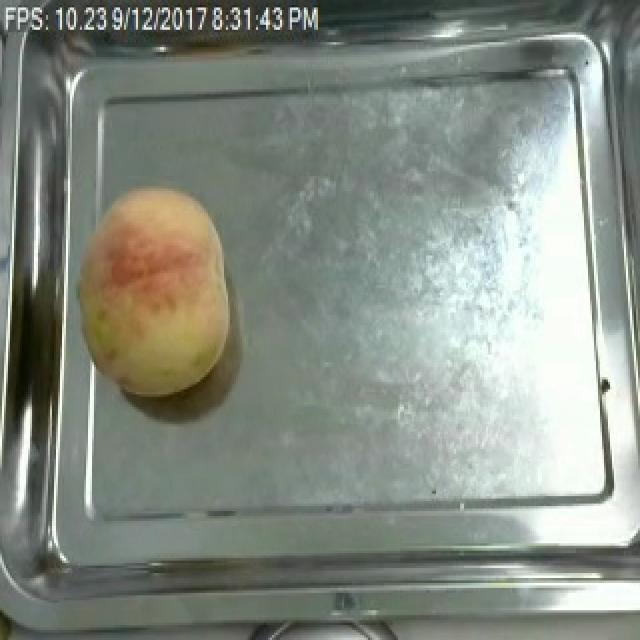Fruit: (64, 176, 238, 404)
